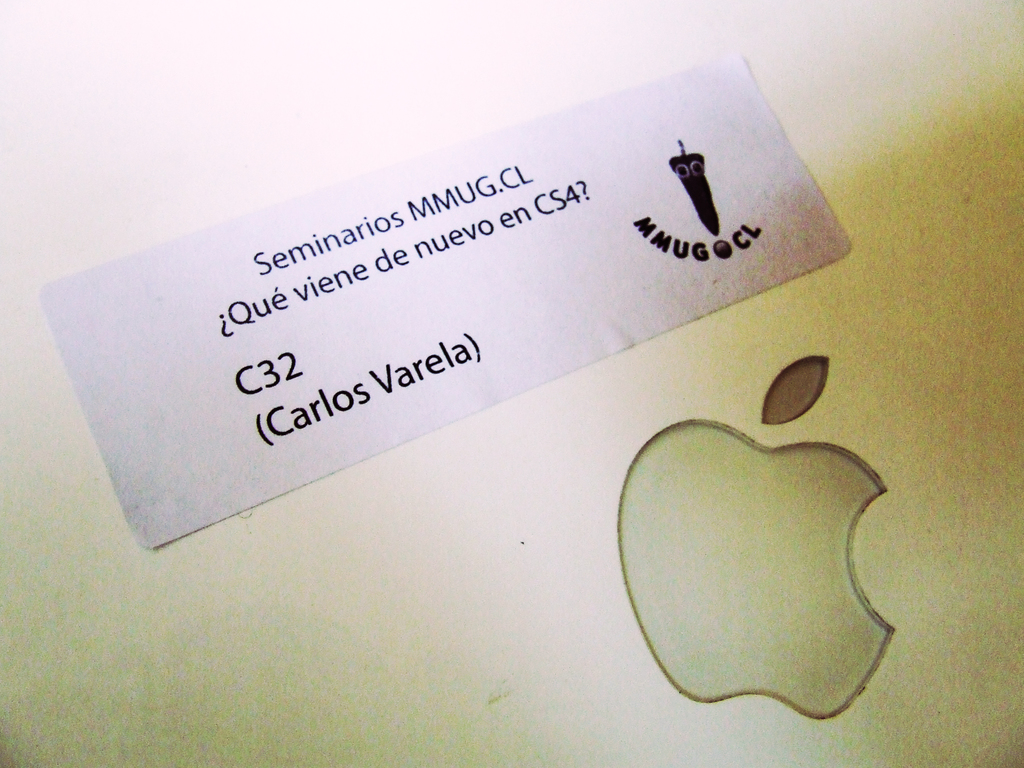Apple: (622, 428, 904, 725)
